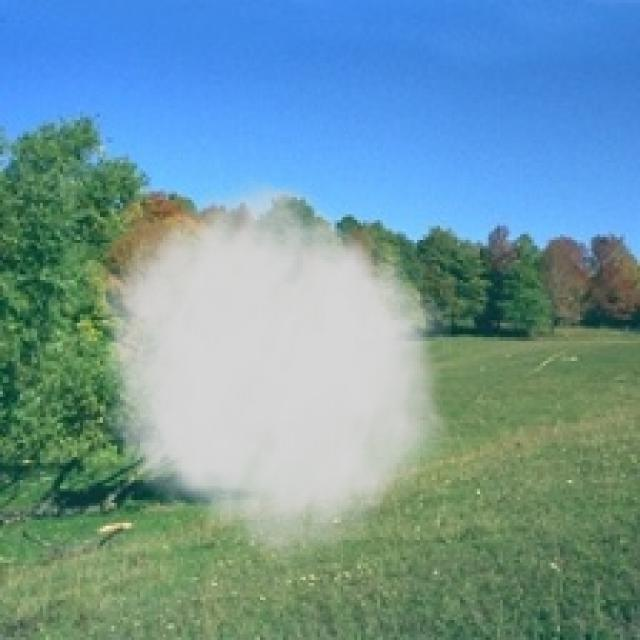smoke: (83, 166, 451, 571)
